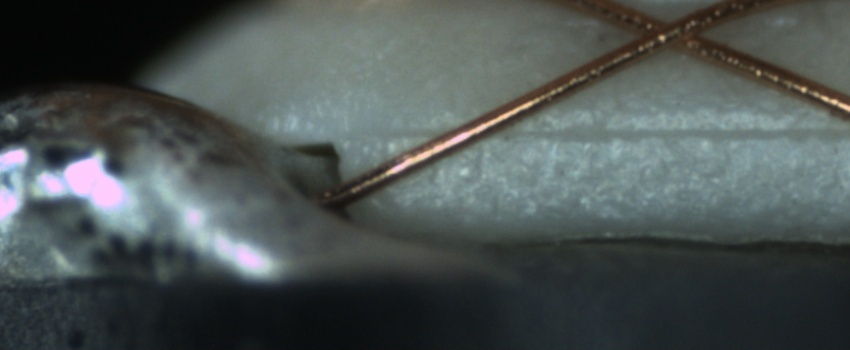CL: (617, 2, 721, 60)
DL: (387, 103, 850, 163)
